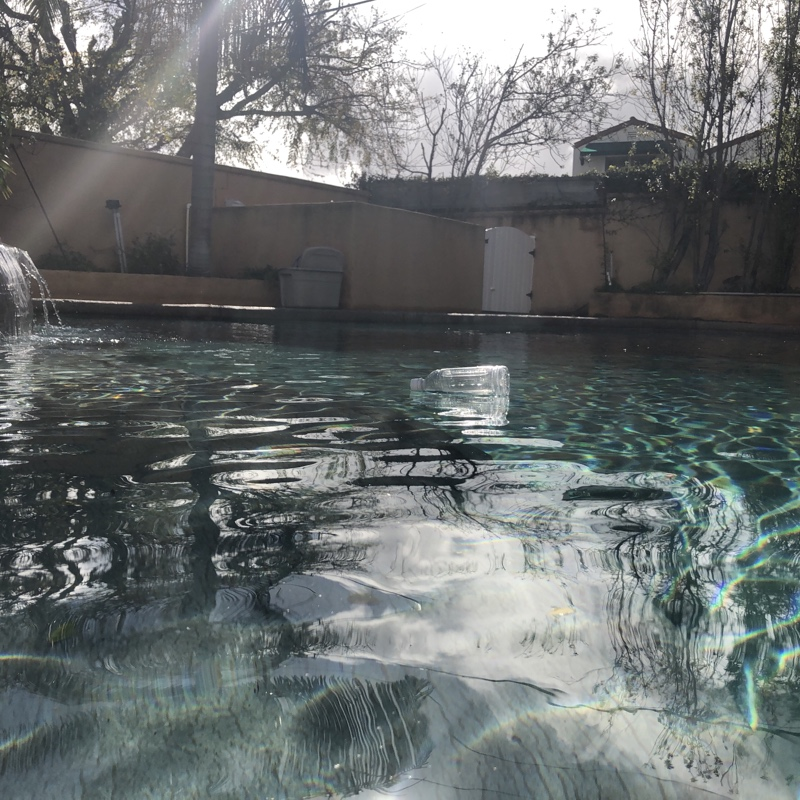Plastic Bottle: (402, 362, 513, 403)
